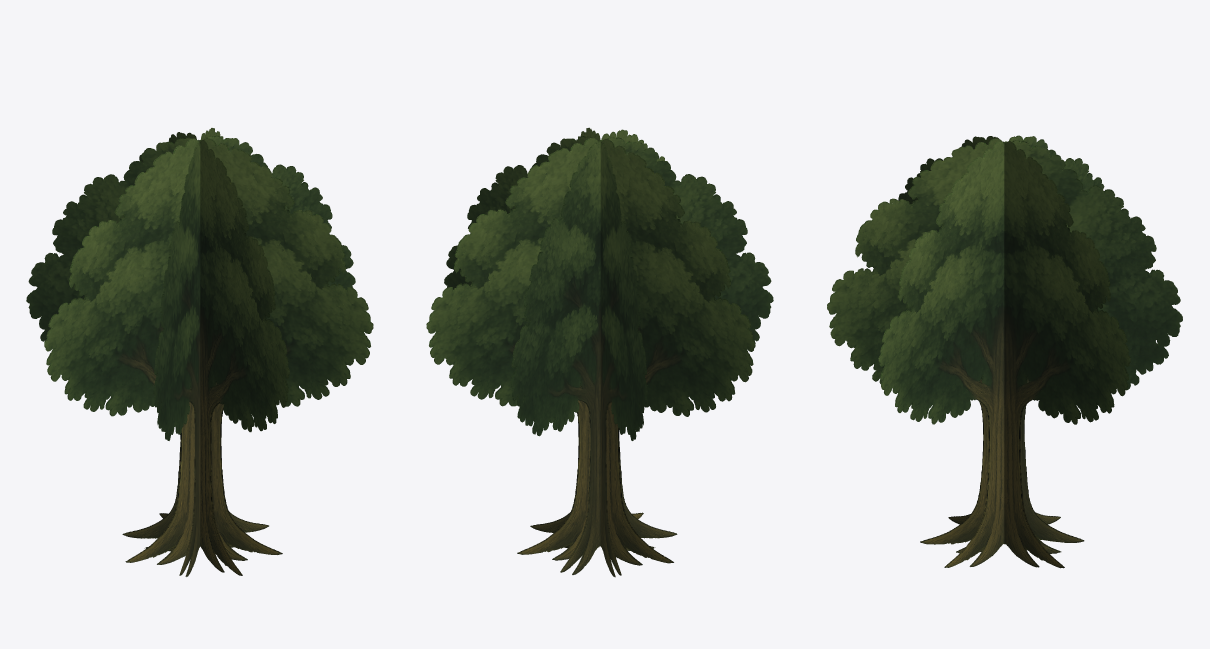
File: pohon test.fbx_Collection.fbx
The picture shows the model from 3 angles, left to right: view 1: azimuth 30°, elevation 25°; view 2: azimuth 150°, elevation 25°; view 3: azimuth 270°, elevation 25°; orthographic projection.
Visible parts, largest first — view 1: ChatGPT Image Sep 13, 2025, 01_26_23 PM.002, ChatGPT Image Sep 13, 2025, 01_26_23 PM.003, ChatGPT Image Sep 13, 2025, 01_26_23 PM, ChatGPT Image Sep 13, 2025, 01_26_23 PM.001; view 2: ChatGPT Image Sep 13, 2025, 01_26_23 PM.001, ChatGPT Image Sep 13, 2025, 01_26_23 PM.002, ChatGPT Image Sep 13, 2025, 01_26_23 PM, ChatGPT Image Sep 13, 2025, 01_26_23 PM.003; view 3: ChatGPT Image Sep 13, 2025, 01_26_23 PM.003, ChatGPT Image Sep 13, 2025, 01_26_23 PM.001, ChatGPT Image Sep 13, 2025, 01_26_23 PM.
Boxes of the visible parts, box(x1,y1,x2,y2) form: ChatGPT Image Sep 13, 2025, 01_26_23 PM.002: box(44, 135, 355, 564); ChatGPT Image Sep 13, 2025, 01_26_23 PM.003: box(26, 137, 373, 560); ChatGPT Image Sep 13, 2025, 01_26_23 PM: box(139, 132, 289, 575); ChatGPT Image Sep 13, 2025, 01_26_23 PM.001: box(153, 128, 223, 576); ChatGPT Image Sep 13, 2025, 01_26_23 PM.001: box(426, 137, 773, 560); ChatGPT Image Sep 13, 2025, 01_26_23 PM.002: box(444, 136, 755, 565); ChatGPT Image Sep 13, 2025, 01_26_23 PM: box(510, 129, 670, 574); ChatGPT Image Sep 13, 2025, 01_26_23 PM.003: box(576, 127, 647, 577); ChatGPT Image Sep 13, 2025, 01_26_23 PM.003: box(878, 135, 1104, 567); ChatGPT Image Sep 13, 2025, 01_26_23 PM.001: box(898, 136, 1130, 568); ChatGPT Image Sep 13, 2025, 01_26_23 PM: box(827, 138, 1182, 553).
Bounding box in the file's own units: 375 × 500 × 375.
